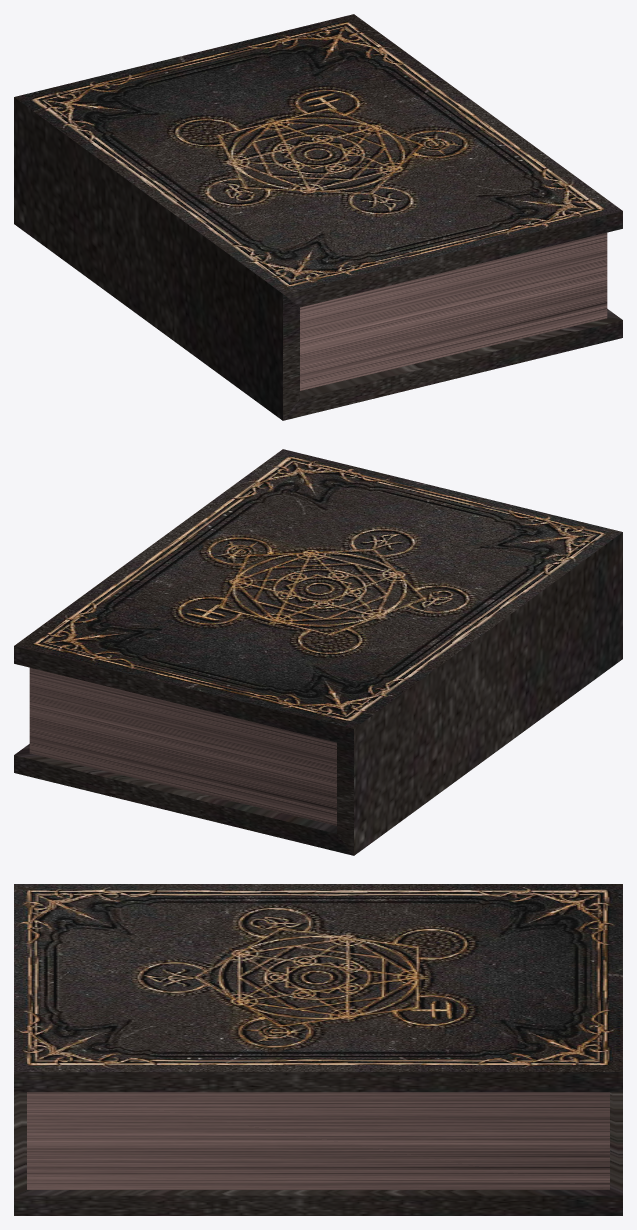
File: LivroOrdem.fbx
3 renders of one model, top to bottom at view 1: azimuth 30°, elevation 25°; view 2: azimuth 150°, elevation 25°; view 3: azimuth 270°, elevation 25°, orthographic. The views are drawn at different scales.
Visible parts, largest first — view 1: LivroOrdem; view 2: LivroOrdem; view 3: LivroOrdem.
Boxes of the visible parts, x1,y1,x2,y2 form: LivroOrdem: [14, 14, 622, 420]; LivroOrdem: [14, 449, 622, 855]; LivroOrdem: [14, 884, 622, 1215].
Bounding box in the file's own units: 1.46 × 0.5211 × 2.
